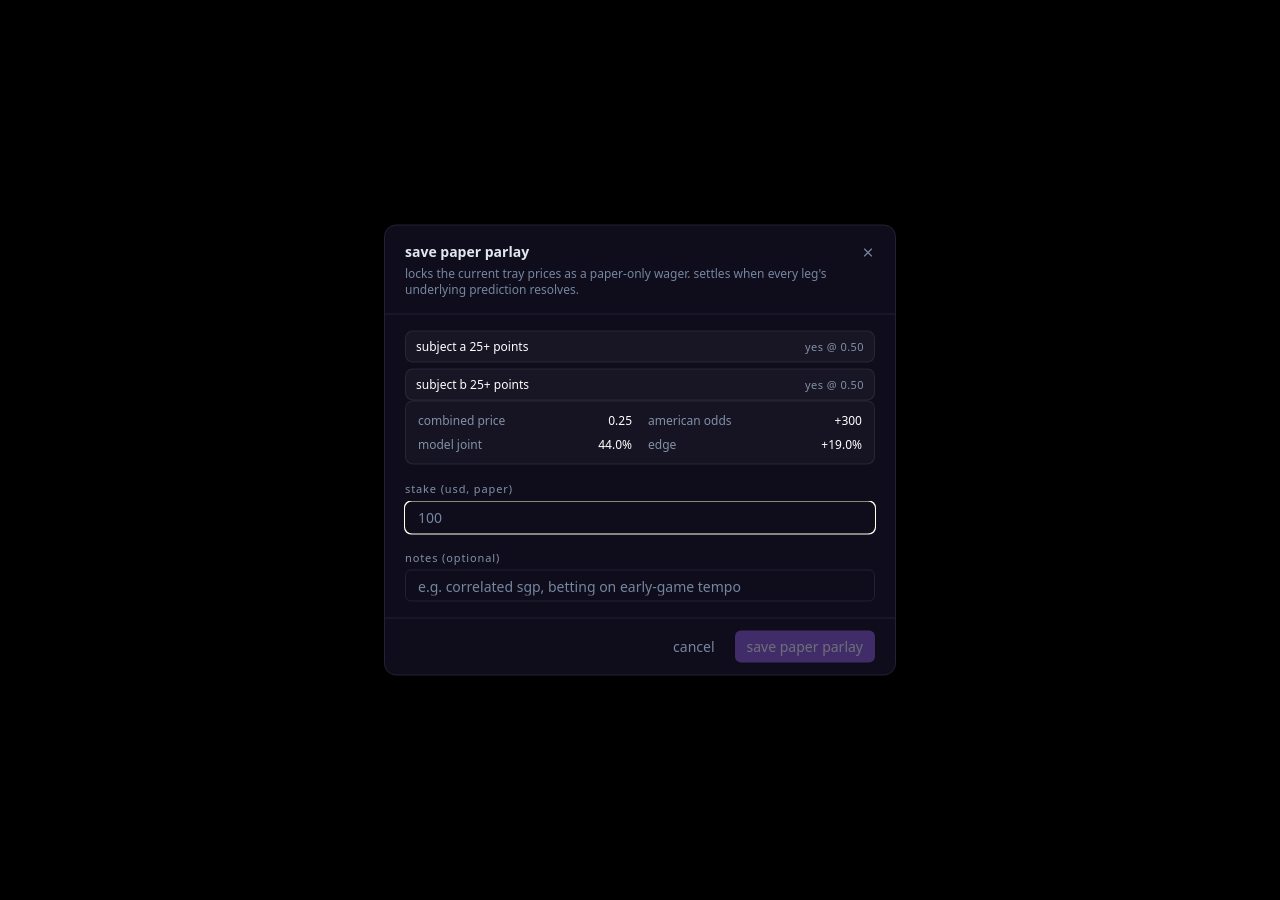
Test: PaperParlayDialog › Save button stays disabled until a positive stake is entered
Expected: the button with test id "paper-parlay-dialog-submit" is disabled, [734,630,875,662]
Type "0" into the field with test id "paper-parlay-dialog-stake" at (640, 517), box [405,501,875,533]
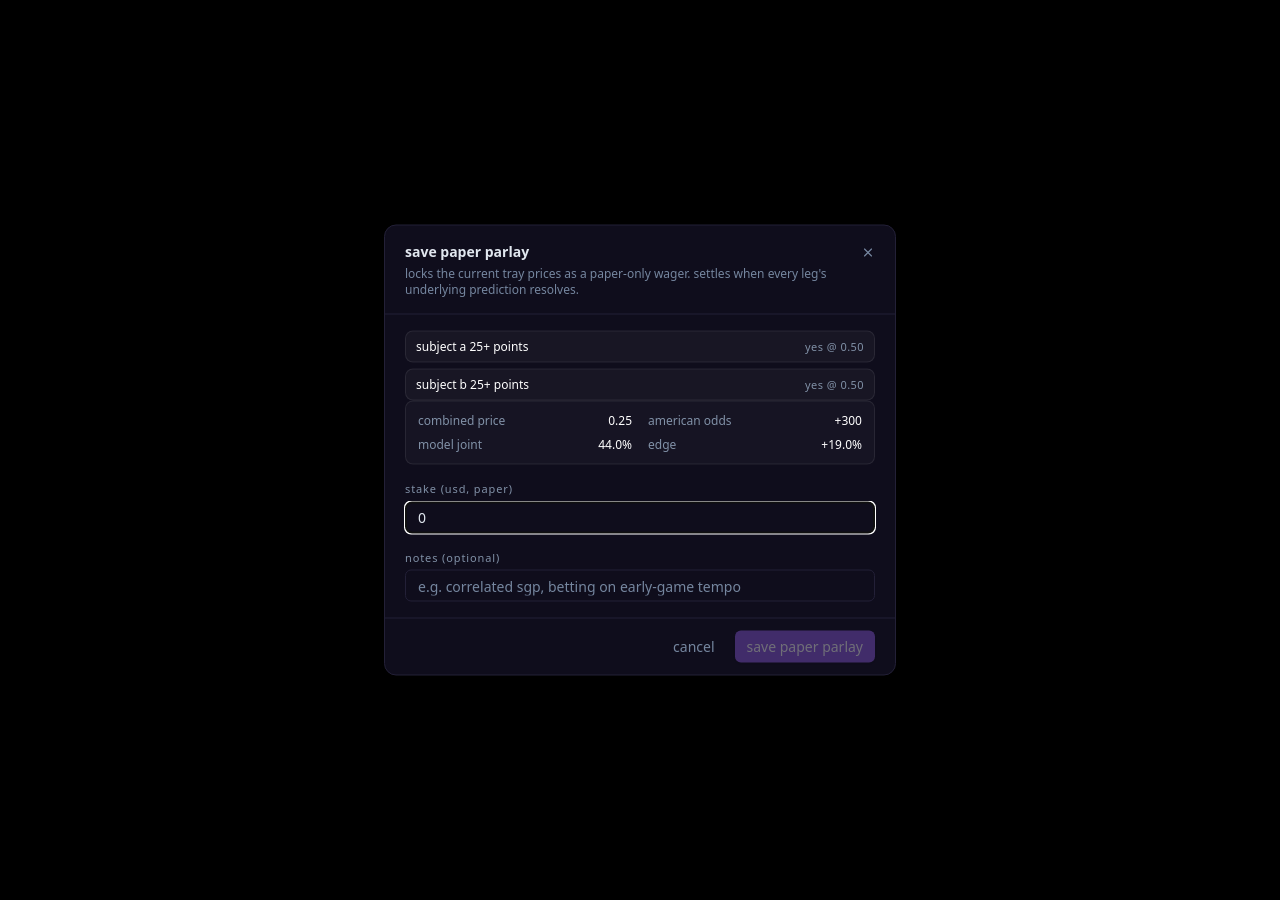
Expected: the button with test id "paper-parlay-dialog-submit" is disabled, [734,630,875,662]
Replace the text in the field with test id "paper-parlay-dialog-stake" with "100" at (640, 517), box [405,501,875,533]
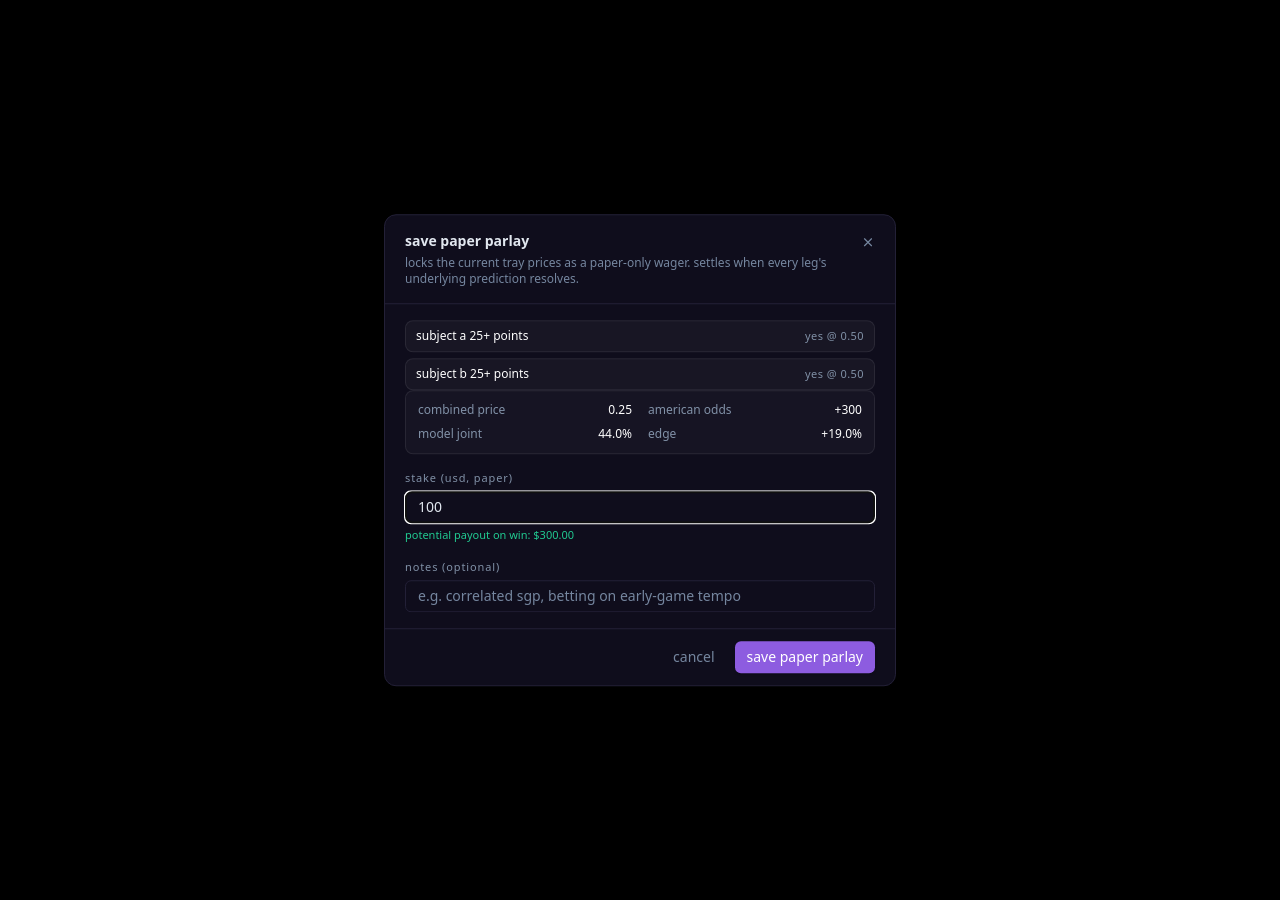
Result: the button with test id "paper-parlay-dialog-submit" is enabled at [734,641,875,673]
